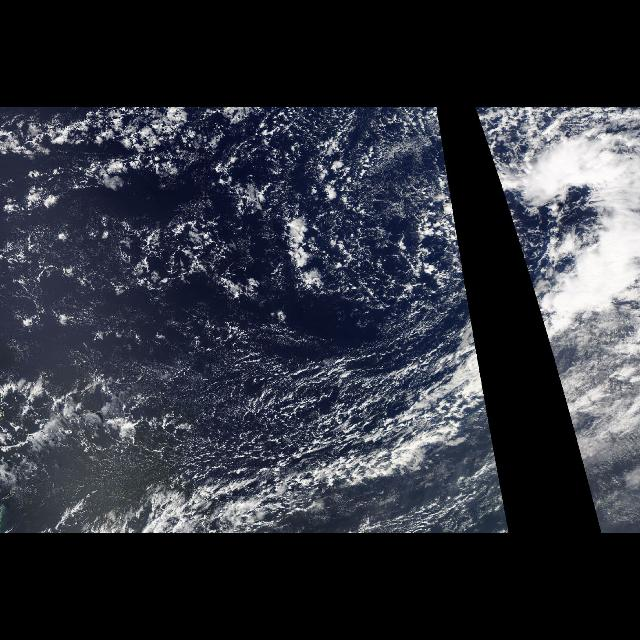Gravel: (9, 112, 509, 532), (474, 111, 524, 262)
